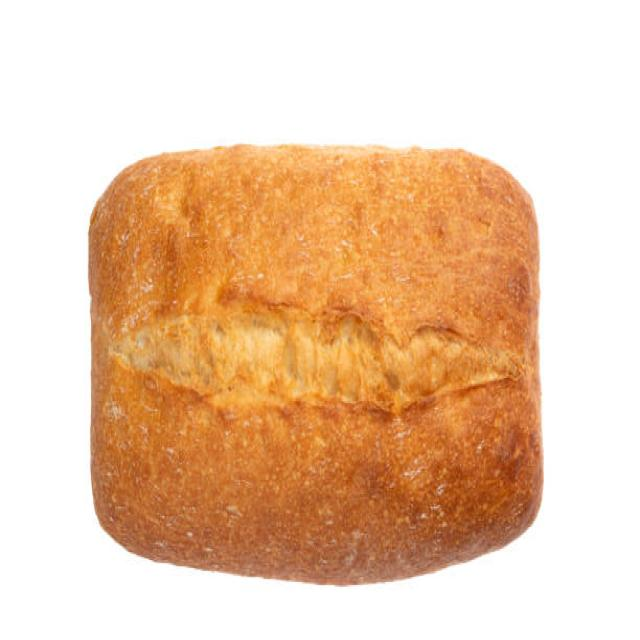Ciabatta: (89, 146, 541, 582)
